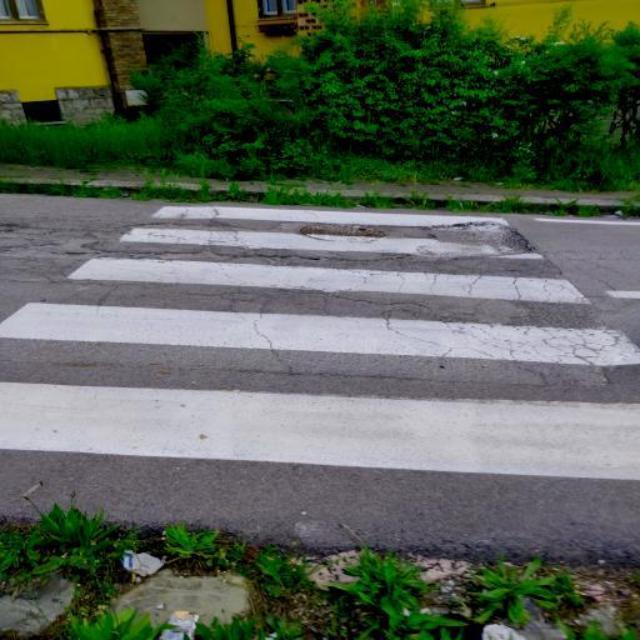sidewalk: (0, 199, 640, 478)
